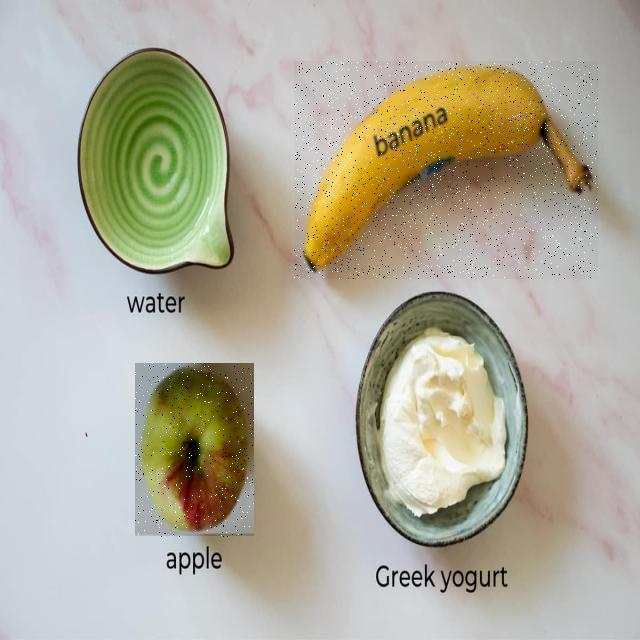Apple: (135, 364, 254, 538)
Banana: (294, 61, 598, 279)
